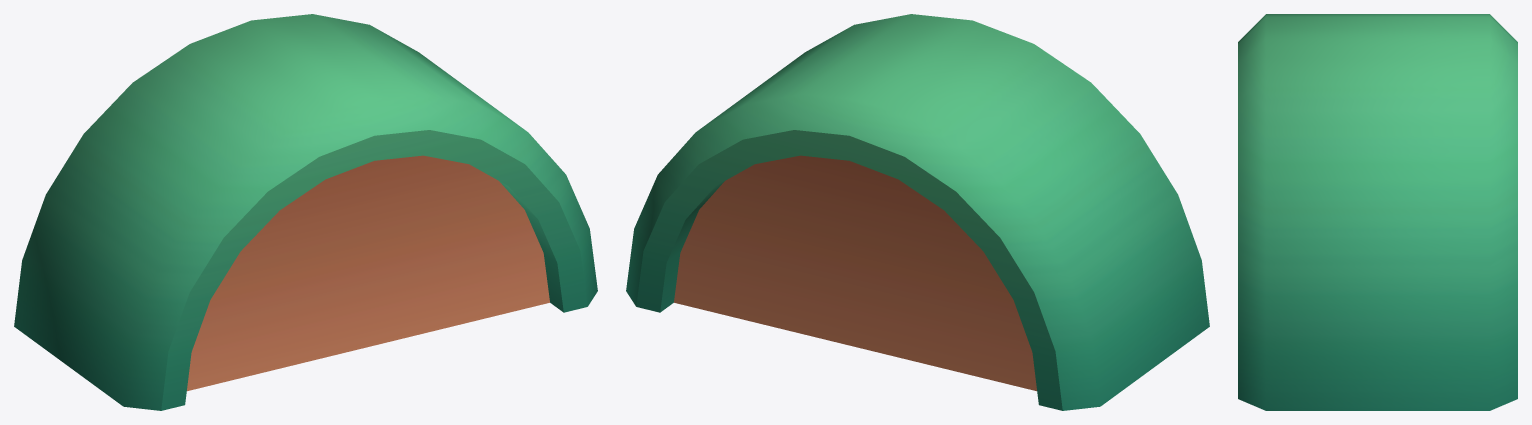
Rendered from kenney-platformer-block-grass-curve.glb.
The picture shows the model from 3 angles, left to right: view 1: azimuth 30°, elevation 25°; view 2: azimuth 150°, elevation 25°; view 3: azimuth 270°, elevation 25°; orthographic projection. The views are drawn at different scales.
Parts seen in each view (by area): view 1: block-grass-curve; view 2: block-grass-curve; view 3: block-grass-curve.
Boxes of the visible parts, x1,y1,x2,y2 form: block-grass-curve: (14,14,597,410); block-grass-curve: (626,14,1209,410); block-grass-curve: (1238,14,1517,410).
Size of the model in its own units: 2 by 1 by 1.
Materials: 1 (1 with a texture image).
